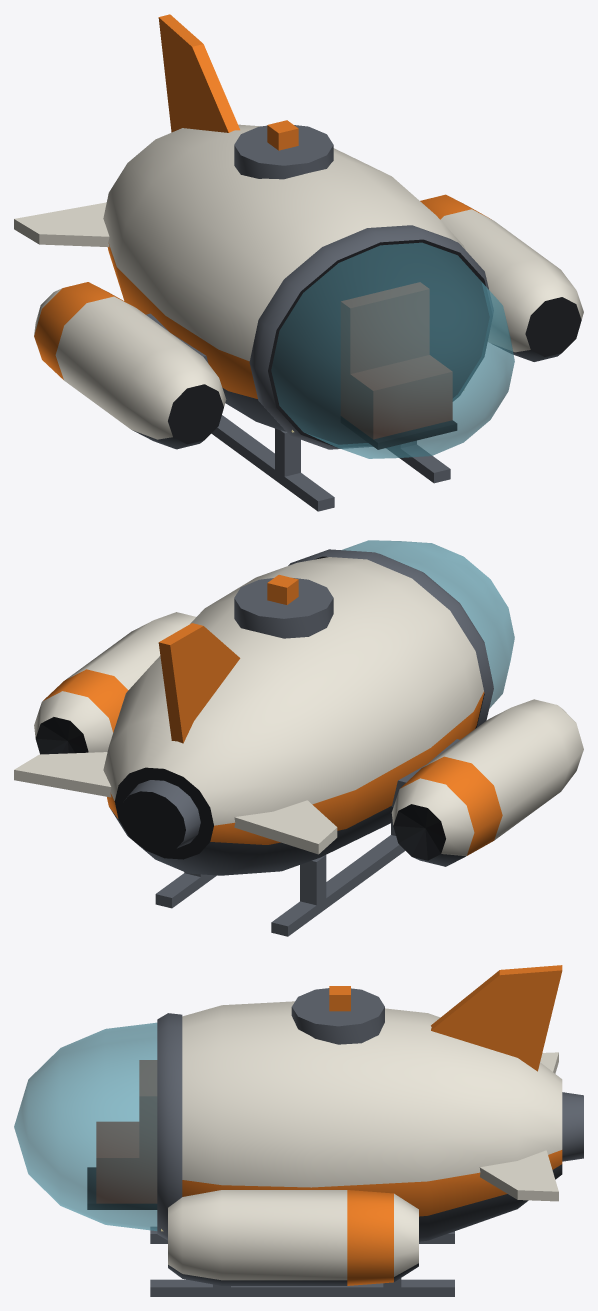
Rendered from minisub.obj.
3 renders of one model, top to bottom at view 1: azimuth 30°, elevation 25°; view 2: azimuth 150°, elevation 25°; view 3: azimuth 270°, elevation 25°, orthographic. The views are drawn at different scales.
Visible parts, largest first — view 1: Body, Glass; view 2: Body, Glass; view 3: Body, Glass.
Boxes of the visible parts, x1,y1,x2,y2 form: Body: (14,14,583,511); Glass: (271,242,514,458); Body: (14,549,583,936); Glass: (341,540,514,708); Body: (87,965,583,1296); Glass: (14,1022,157,1230).
Bounding box in the file's own units: 2.7 × 1.84 × 3.18.
2 materials, 2 textured.
